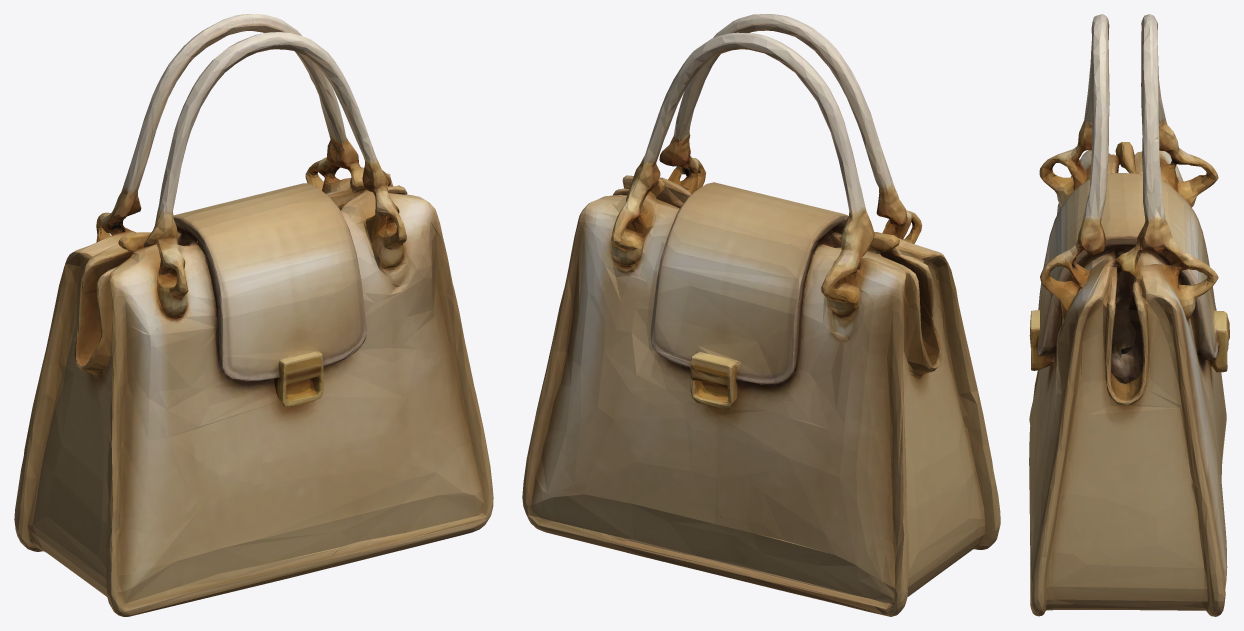
3 views of the same model, side by side, from view 1: azimuth 30°, elevation 25°; view 2: azimuth 150°, elevation 25°; view 3: azimuth 270°, elevation 25° (orthographic). The views are drawn at different scales.
Parts seen in each view (by area): view 1: geometry_0; view 2: geometry_0; view 3: geometry_0.
Part boxes in pixels (bbox=[...]): geometry_0: bbox=[14, 14, 493, 616]; geometry_0: bbox=[522, 14, 1000, 616]; geometry_0: bbox=[1029, 14, 1229, 616].
Size of the model in its own units: 0.7721 by 0.9976 by 0.3564.
1 material, 1 textured.
